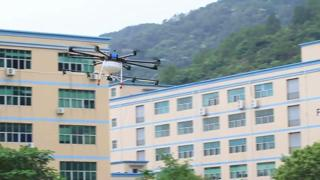UAV: (62, 46, 161, 89)
